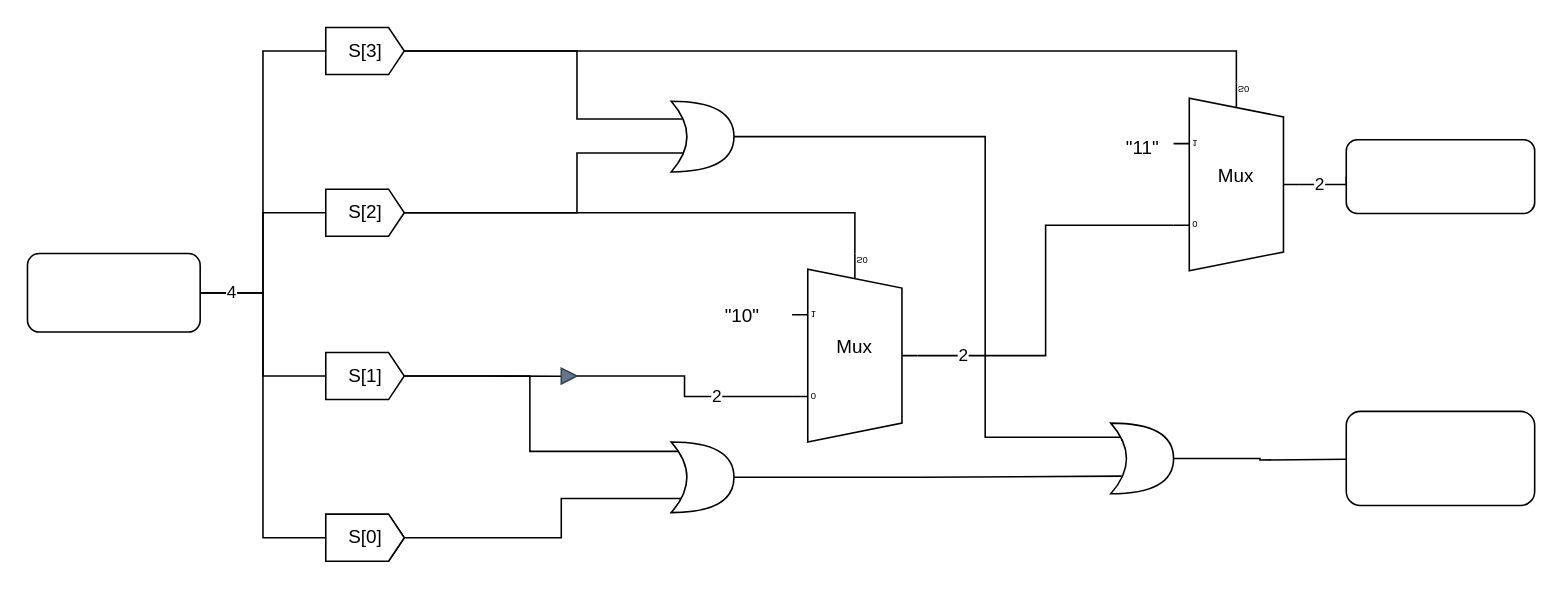
This 1562x589 diagram has some shape labels left out. Each missing label, with the centre of its shape:
4bit input signal: S[3:0]: pixel 113 292
Encoded signal: Z[1:0]: pixel 1440 176
Input is not none: r: pixel 1440 458
